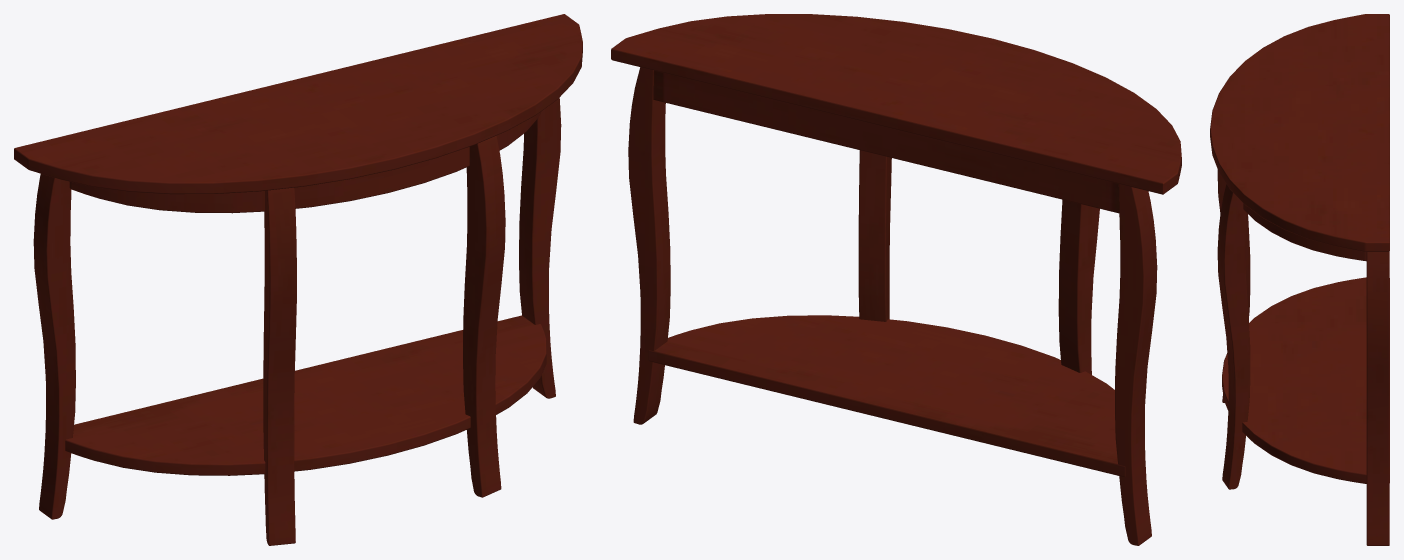
The model's file is abo-B07DB9638P.glb.
3 renders of one model, left to right at view 1: azimuth 30°, elevation 25°; view 2: azimuth 150°, elevation 25°; view 3: azimuth 270°, elevation 25°, orthographic. The views are drawn at different scales.
Size of the model in its own units: 1.22 by 0.779 by 0.405.
Materials: 1 (1 with a texture image).
